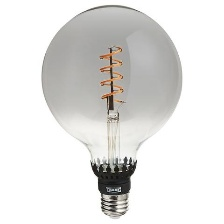light_bulb: (36, 2, 185, 224)
